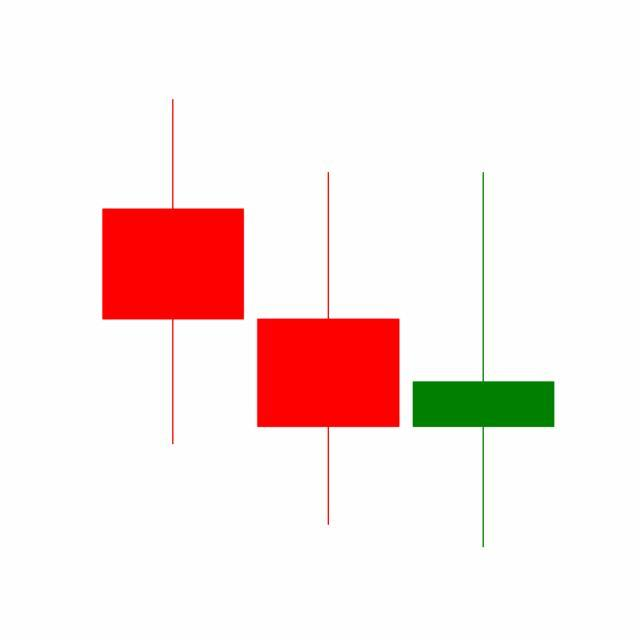Spinning Top: (406, 169, 562, 553)
